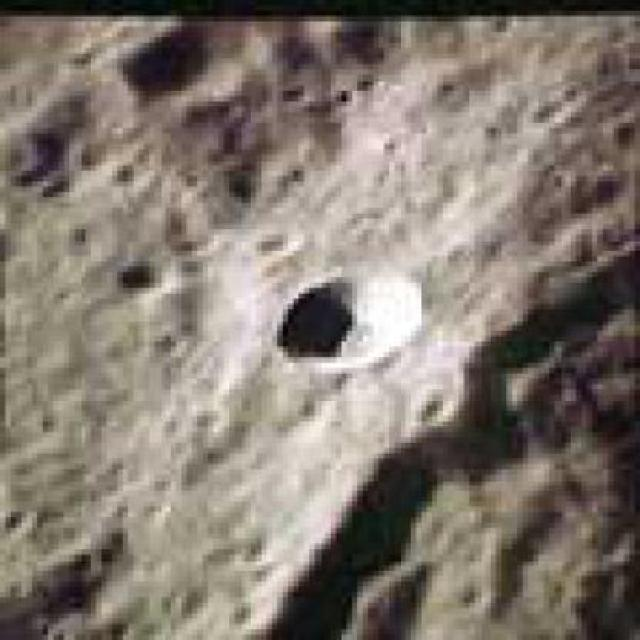crater: (275, 271, 417, 363)
